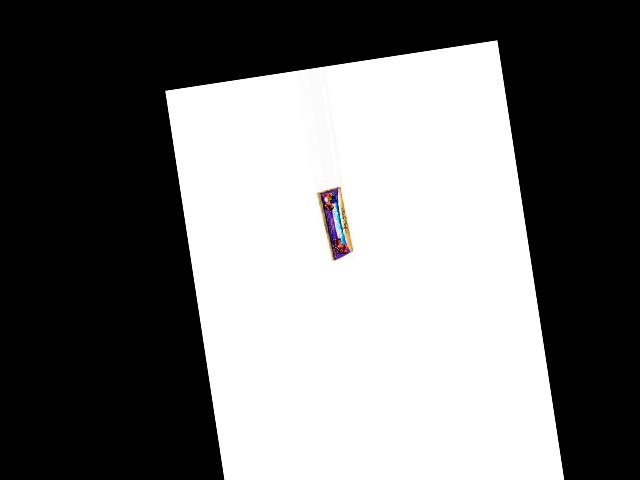chocolate: (316, 186, 351, 265)
